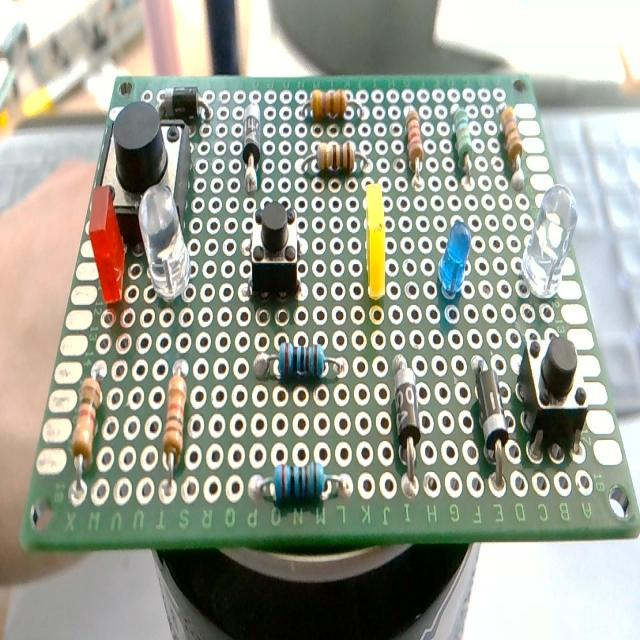diode: (471, 354, 511, 491), (392, 354, 421, 494), (156, 86, 214, 127), (242, 102, 261, 194)
led: (135, 183, 197, 307), (521, 183, 579, 300), (88, 185, 126, 306), (438, 219, 472, 300), (365, 181, 386, 302)
resistor: (247, 461, 351, 505), (70, 362, 104, 492), (162, 359, 192, 493), (254, 347, 343, 382), (499, 102, 525, 191), (304, 144, 369, 177), (453, 105, 474, 183), (406, 106, 424, 176), (310, 89, 348, 120)
switch: (101, 111, 189, 258), (519, 332, 589, 459), (249, 199, 303, 298)
